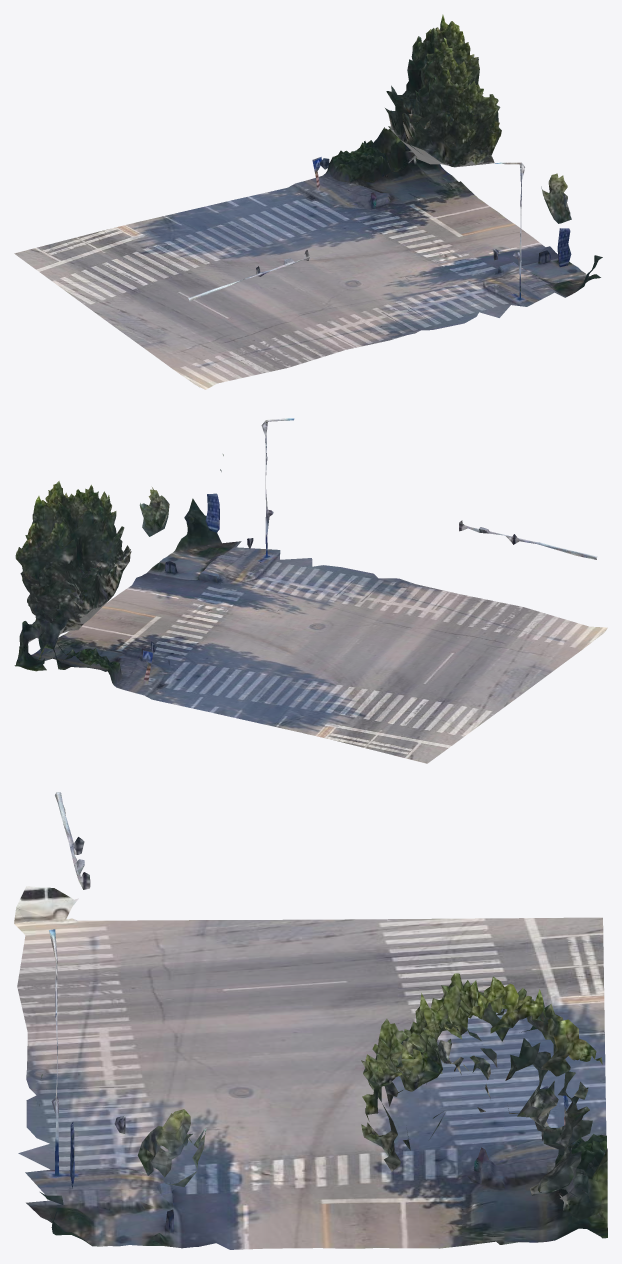
The model's file is Tile_+006_+007_L20_00000t3.glb.
3 renders of one model, top to bottom at view 1: azimuth 30°, elevation 25°; view 2: azimuth 150°, elevation 25°; view 3: azimuth 270°, elevation 25°, orthographic. The views are drawn at different scales.
Visible parts, largest first — view 1: rtc; view 2: rtc; view 3: rtc.
Boxes of the visible parts, x1,y1,x2,y2 form: rtc: (14, 14, 602, 389); rtc: (14, 418, 607, 763); rtc: (14, 792, 607, 1249).
Bounding box in the file's own units: 35.5 × 13.76 × 27.88.
1 material, 1 textured.
